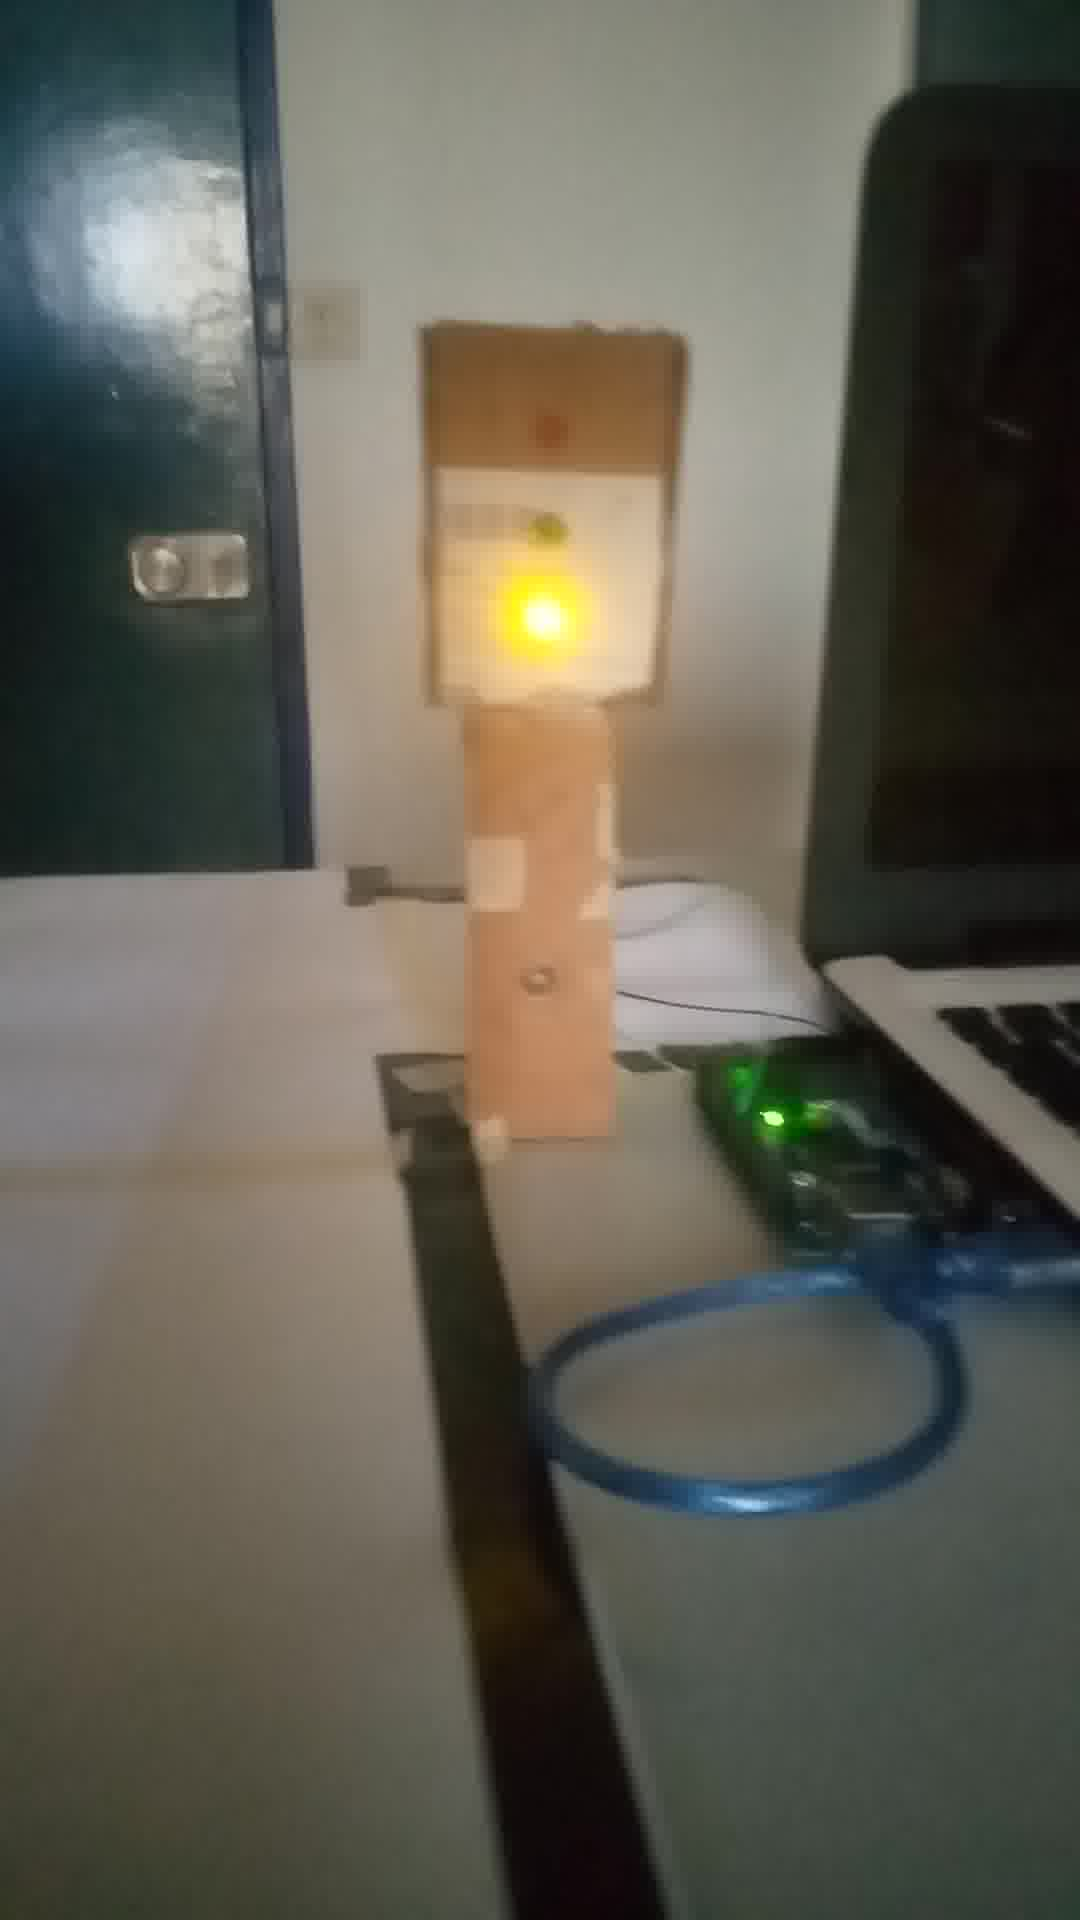green: (410, 326, 670, 717)
